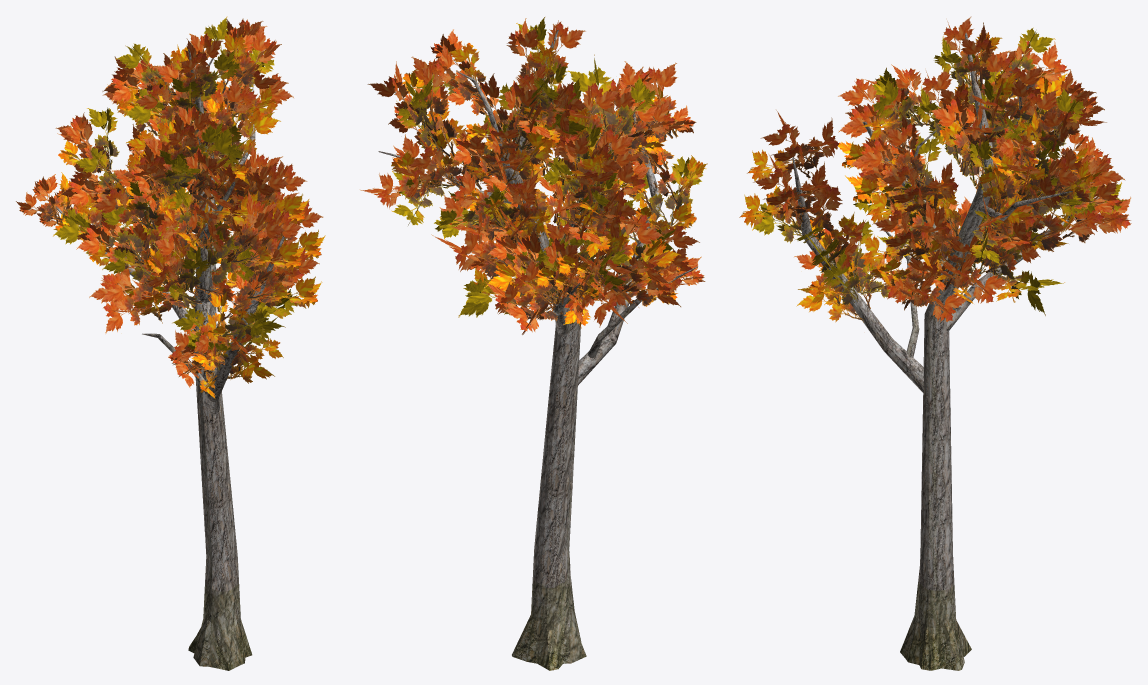
File: Maple_003.glb
3 views of the same model, side by side, from view 1: azimuth 30°, elevation 25°; view 2: azimuth 150°, elevation 25°; view 3: azimuth 270°, elevation 25° (orthographic). The views are drawn at different scales.
Visible parts, largest first — view 1: Plane.127, Cylinder.003; view 2: Plane.127, Cylinder.003; view 3: Plane.127, Cylinder.003.
Part boxes in pixels (x1,y1,x2,y2): Plane.127: [16, 16, 325, 398]; Cylinder.003: [56, 37, 284, 670]; Plane.127: [360, 17, 707, 334]; Cylinder.003: [378, 30, 697, 670]; Plane.127: [739, 16, 1131, 322]; Cylinder.003: [792, 33, 1072, 670].
Size of the model in its own units: 0.6485 by 1.52 by 0.8604.
Materials: 3 (3 with a texture image).
